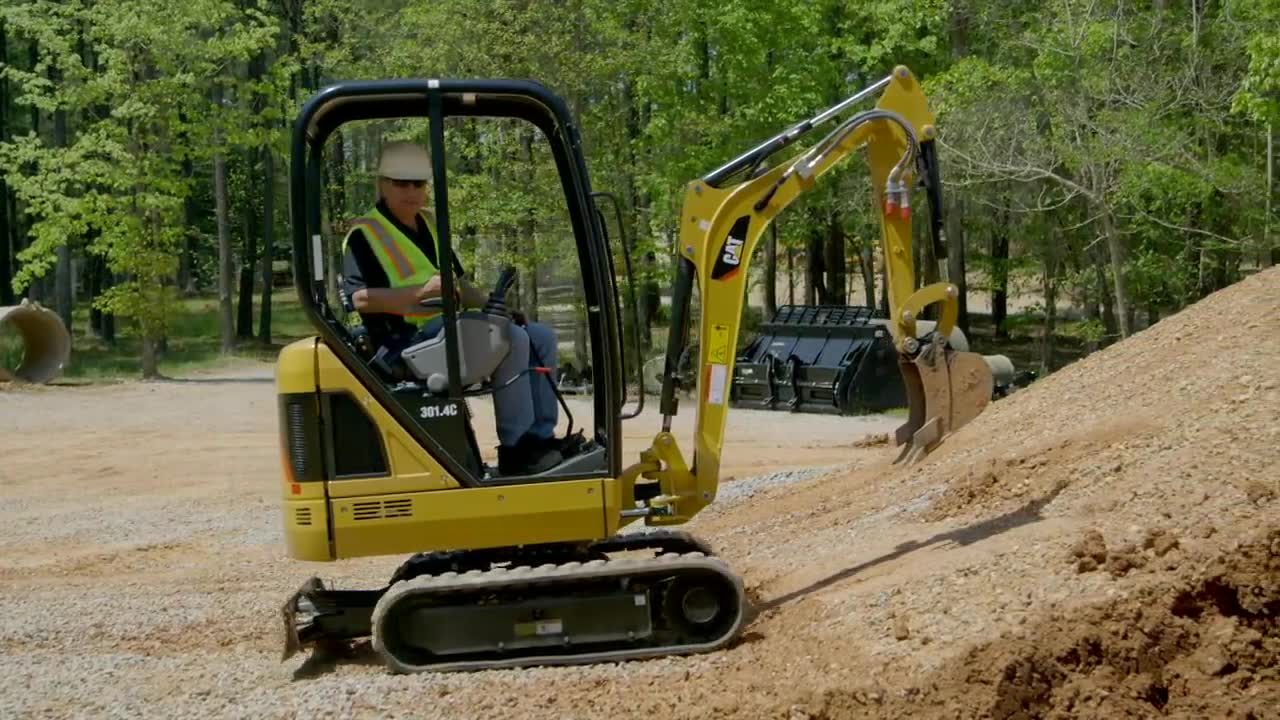attachment-bucket: (895, 331, 990, 470)
cabin: (259, 77, 633, 546)
forearm: (867, 67, 958, 332)
upperarm: (646, 114, 885, 522)
wheelbase: (345, 527, 760, 678)
